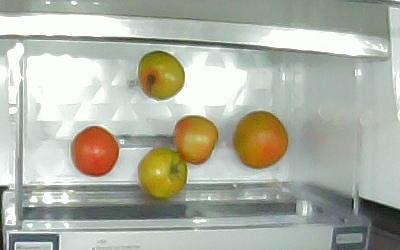tomato: (234, 111, 288, 170), (70, 125, 120, 177), (139, 147, 188, 199), (139, 51, 185, 101), (174, 115, 219, 166)
